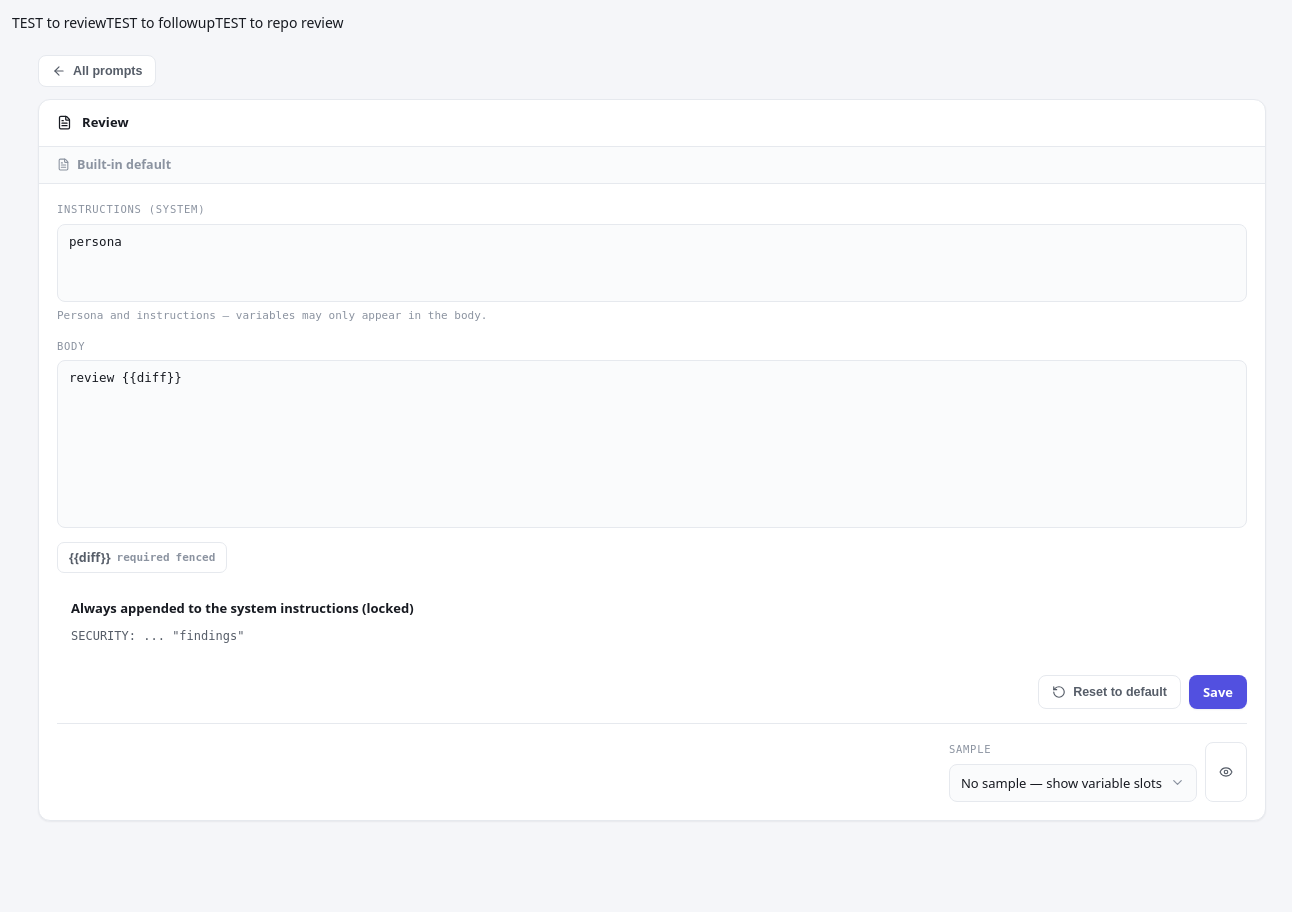
Test case: Prompt screens on the query cache › re-reads an inheriting scope whose first read began before a save
This screenshot has width=1292, height=912.
Click the button "Save".
click(1218, 692)  # box [1189,675,1247,709]
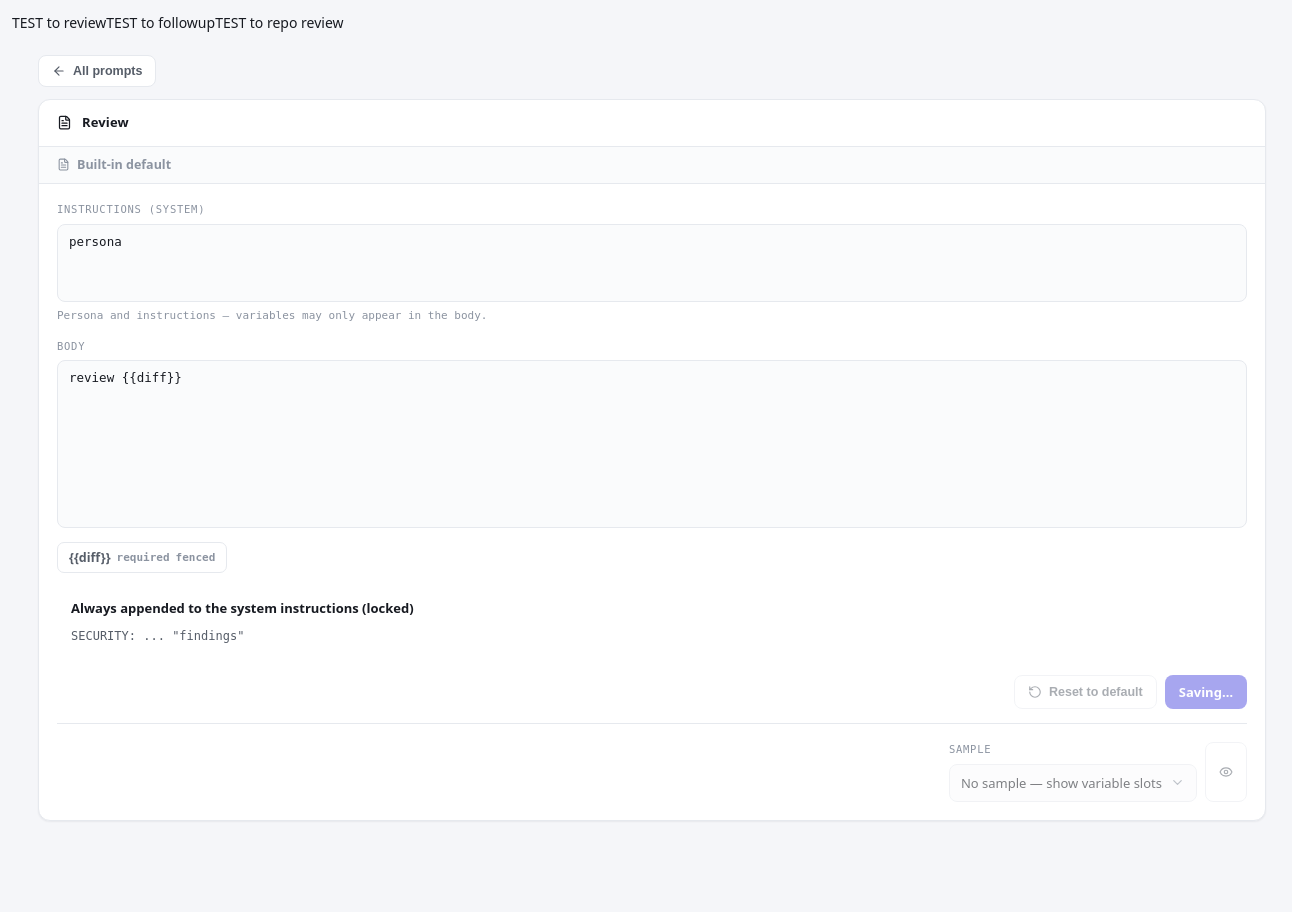
Click the link "TEST to repo review".
click(279, 22)  # box [215,13,344,32]
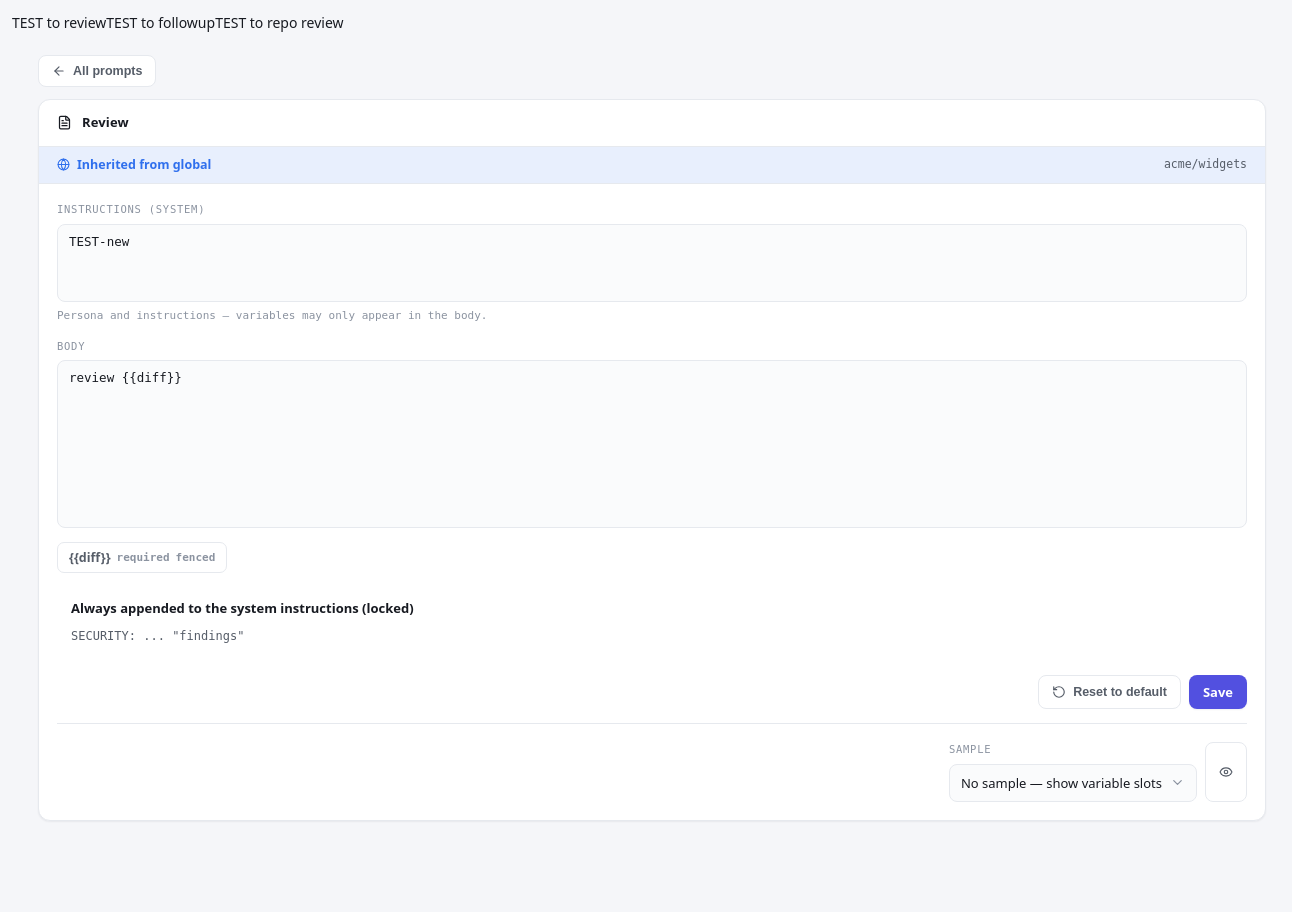
Now the text box showing "TEST-new" is shown, box [57,224,1247,302]
